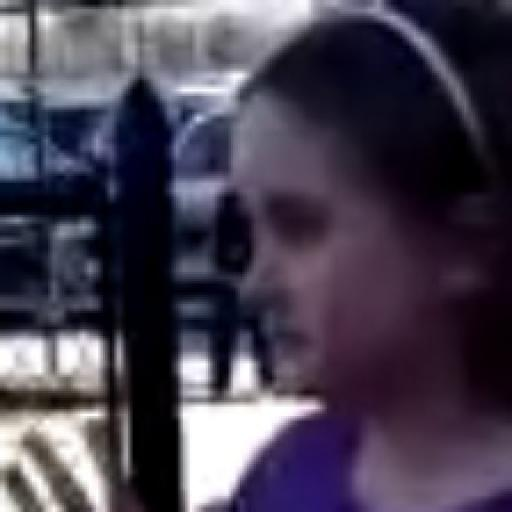Autism: (39, 17, 484, 398)
